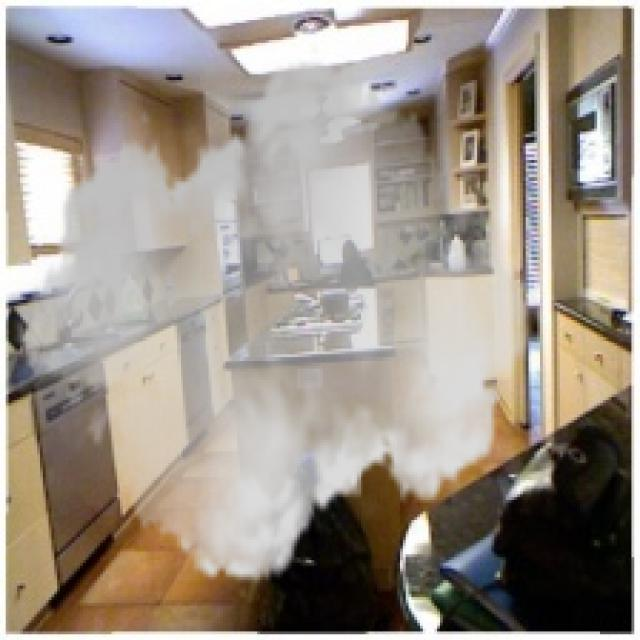Smoke: (14, 40, 543, 603)
